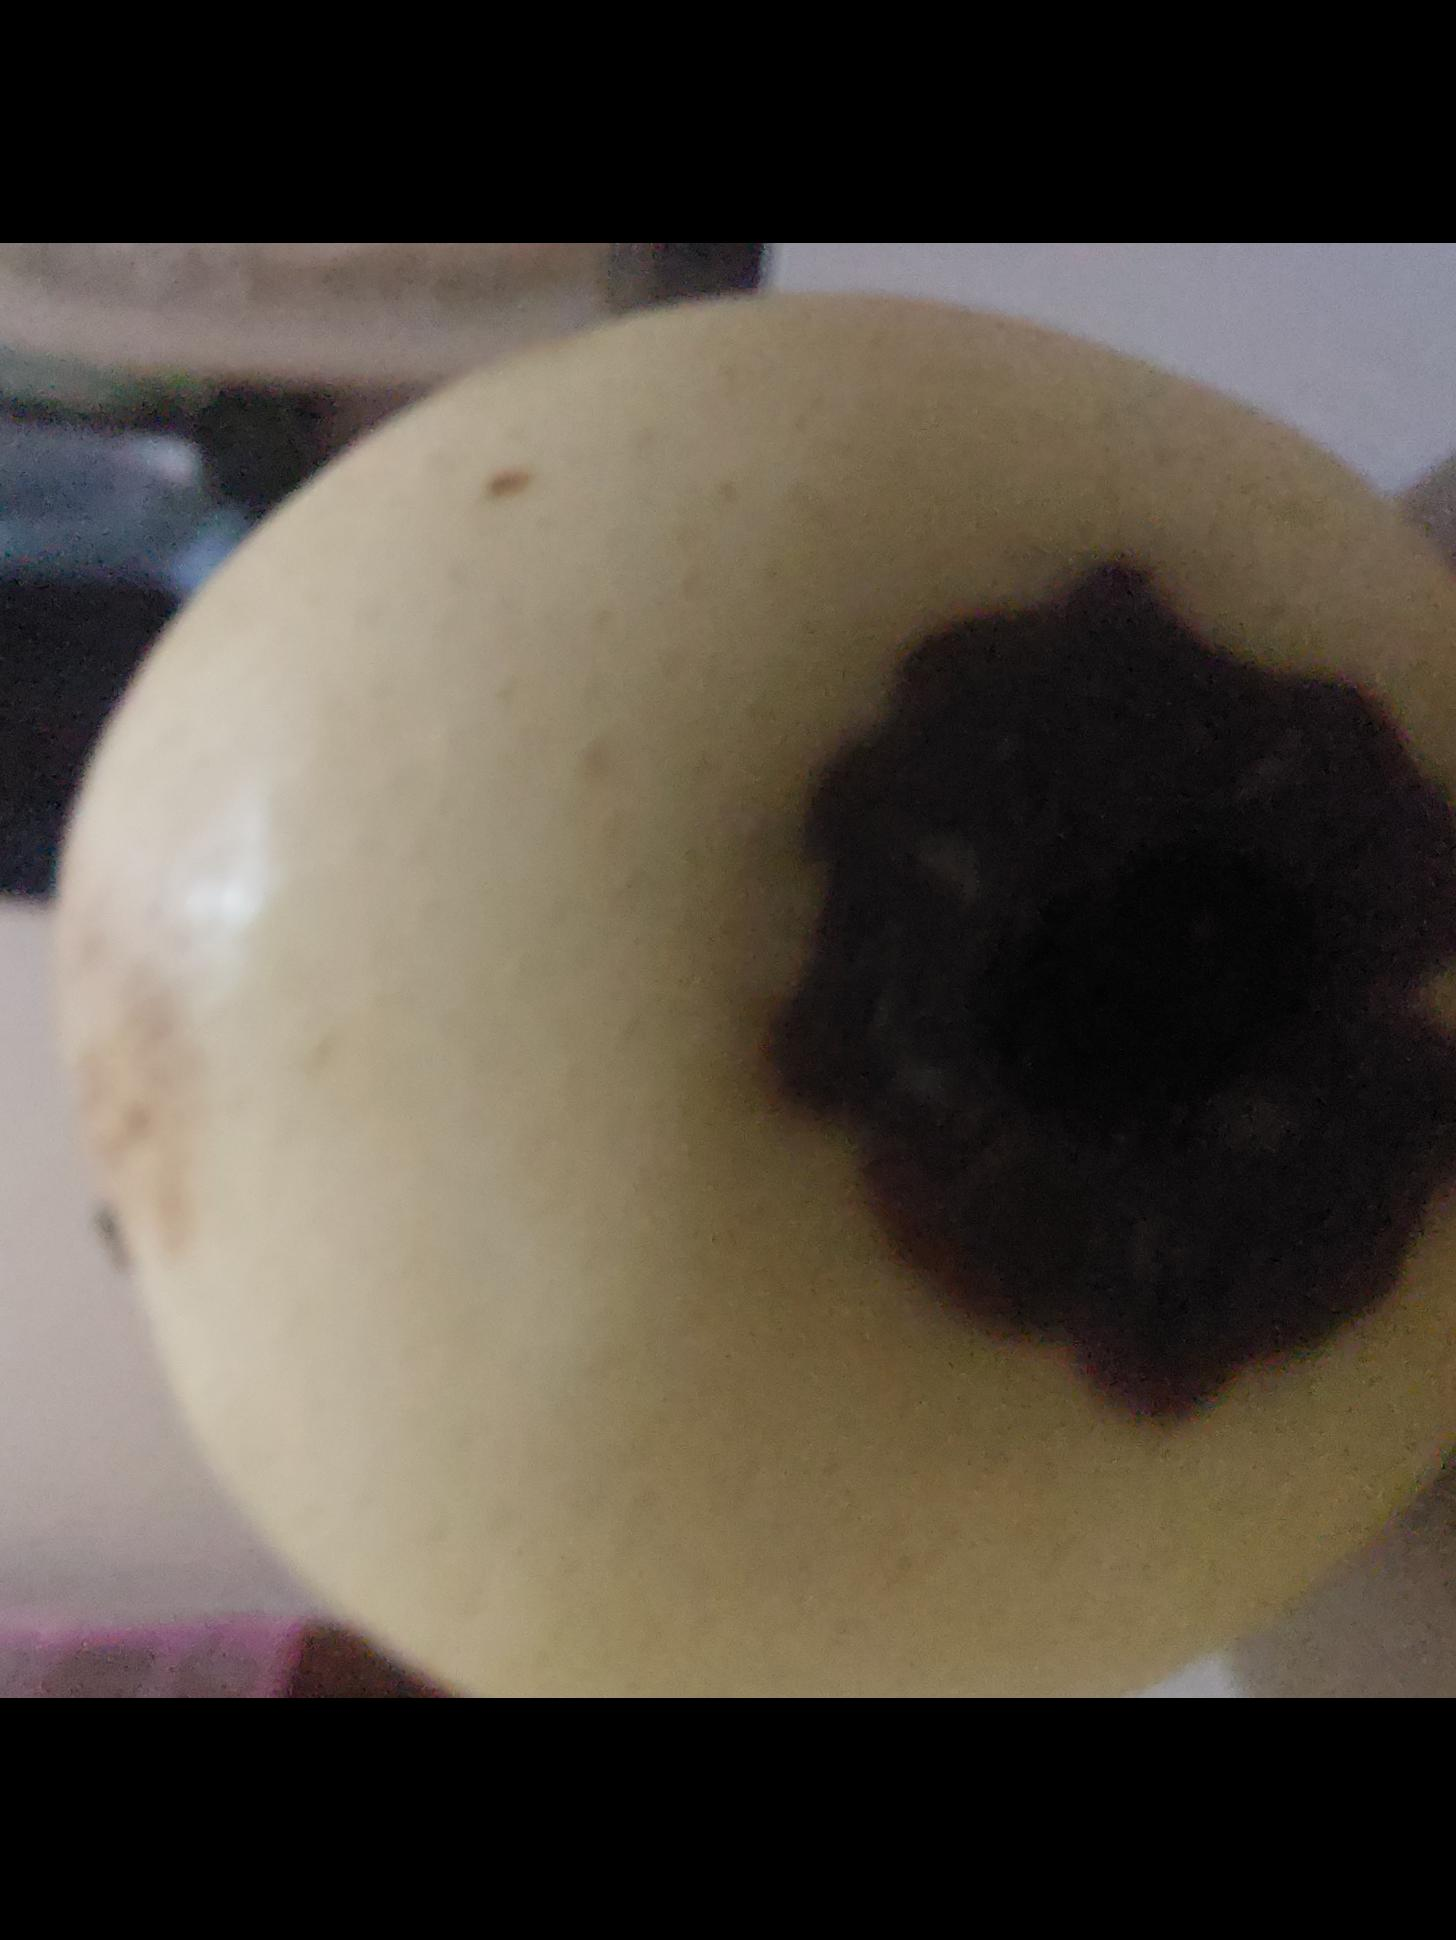Bad Pear: (44, 263, 1456, 1698)
